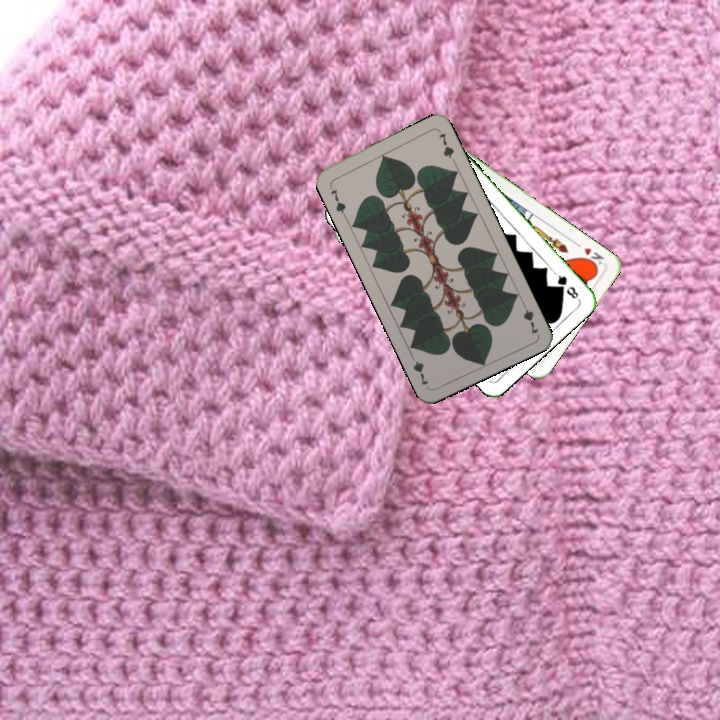G7: (517, 298, 541, 337), (325, 181, 349, 219)
G8: (551, 269, 581, 302)
HK: (571, 238, 607, 270)
